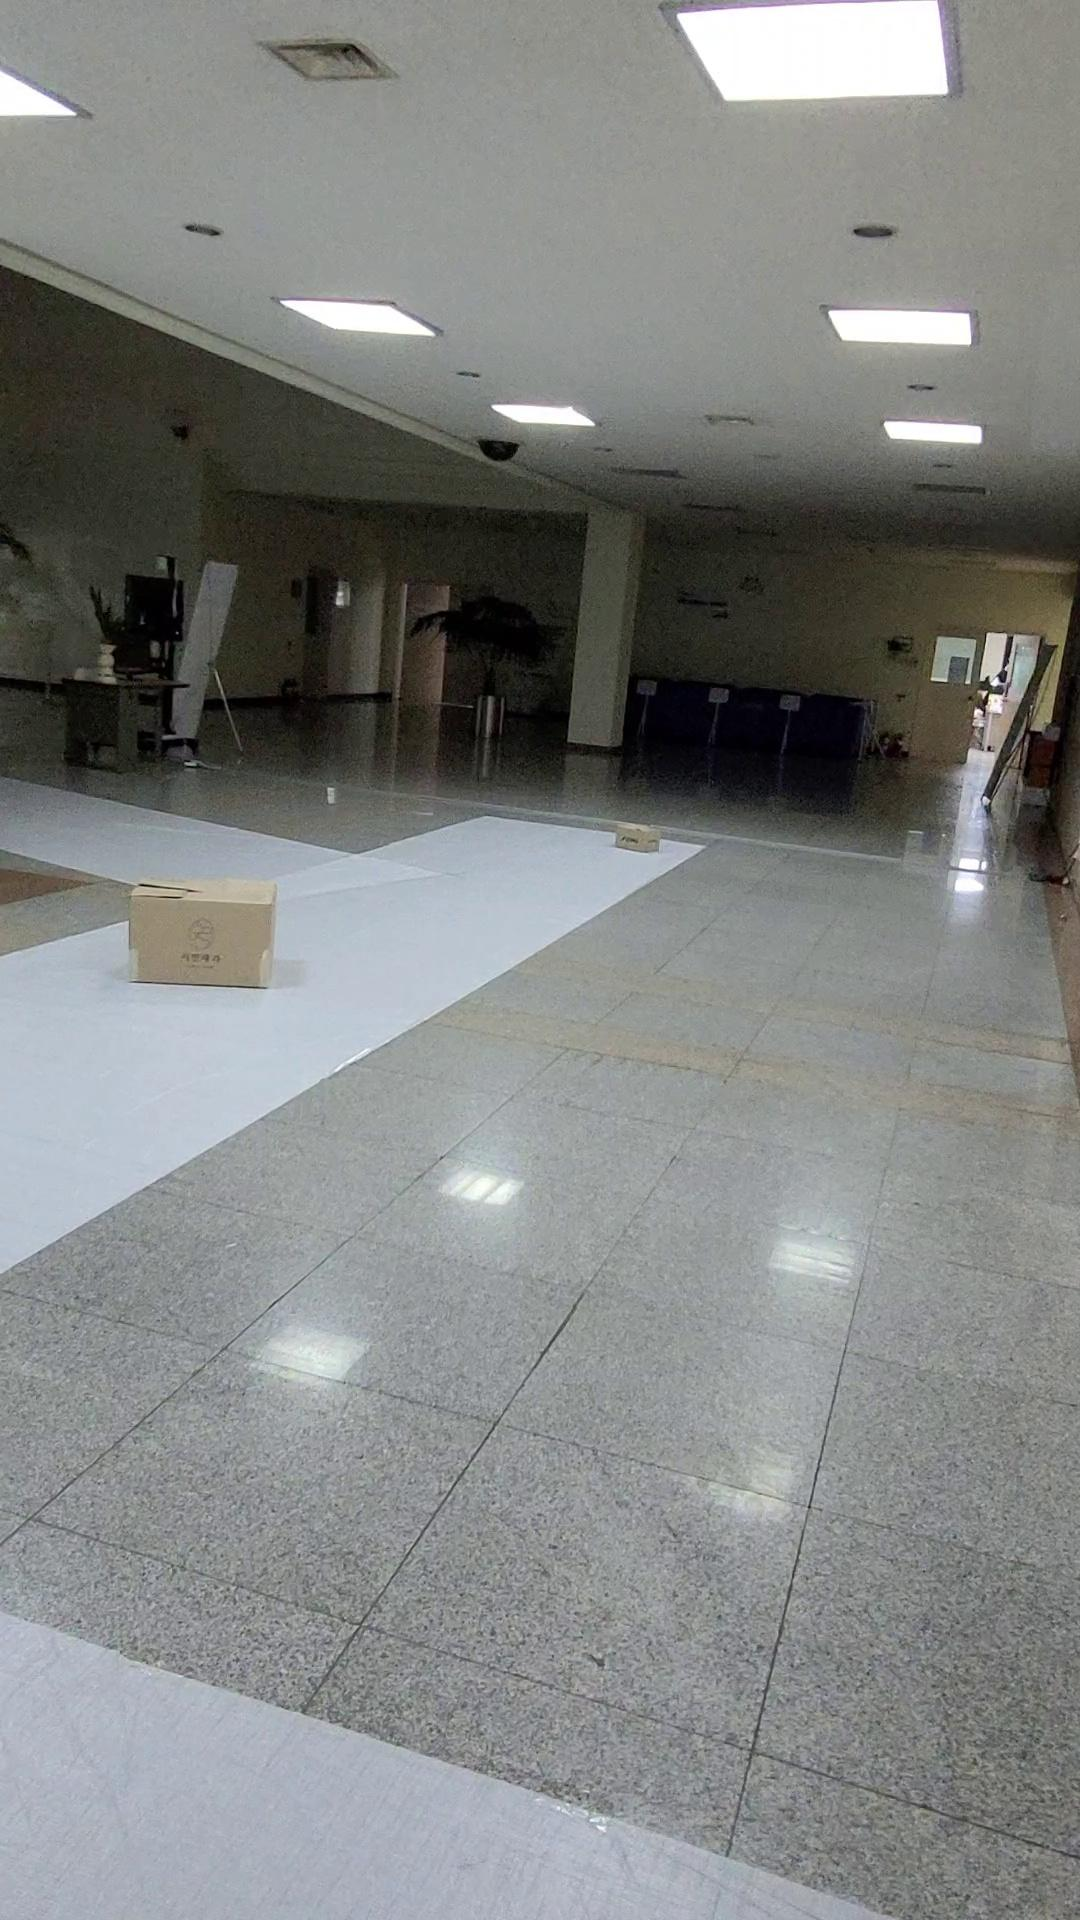Box: (105, 862, 315, 1025), (597, 795, 679, 870)
